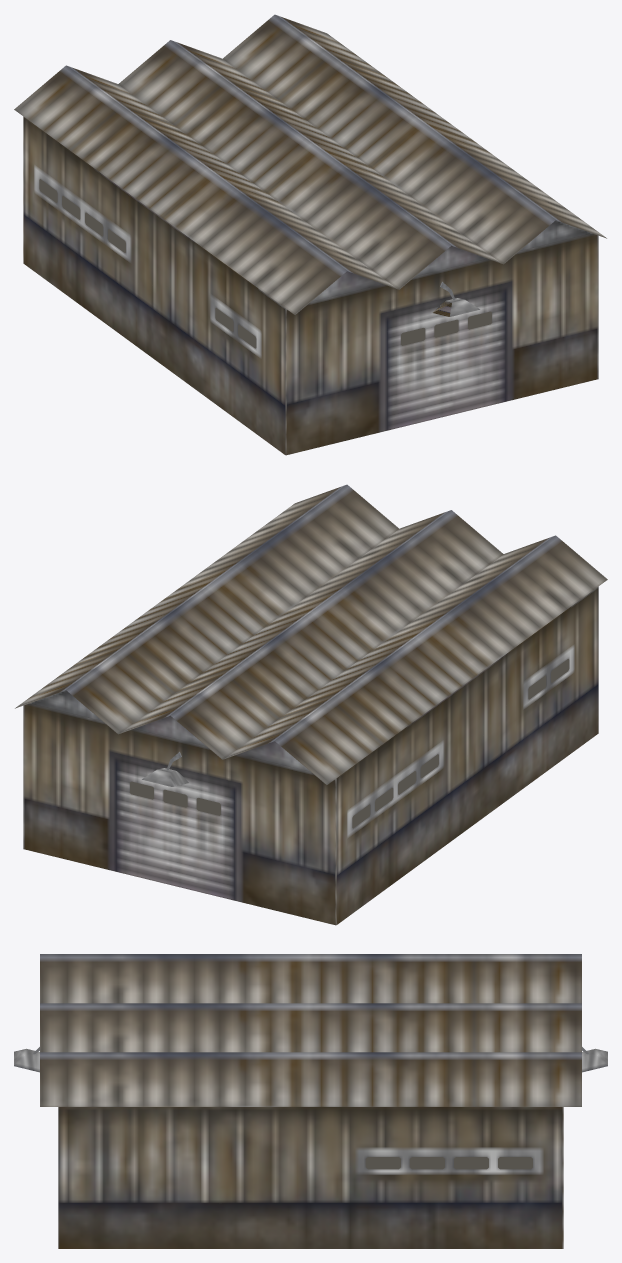
Rendered from civstoragea.glb.
3 renders of one model, top to bottom at view 1: azimuth 30°, elevation 25°; view 2: azimuth 150°, elevation 25°; view 3: azimuth 270°, elevation 25°, orthographic. The views are drawn at different scales.
Visible parts, largest first — view 1: Box02, LitWin_CivStorageA; view 2: Box02, LitWin_CivStorageA; view 3: Box02, LitWin_CivStorageA.
Boxes of the visible parts, left/top/right/bottom form: Box02: left=14, top=14, right=606, bottom=455; LitWin_CivStorageA: left=39, top=68, right=491, bottom=348; Box02: left=15, top=484, right=607, bottom=925; LitWin_CivStorageA: left=130, top=538, right=569, bottom=828; Box02: left=14, top=954, right=607, bottom=1248; LitWin_CivStorageA: left=365, top=1157, right=532, bottom=1169.
Bounding box in the file's own units: 7.71 × 4.2 × 13.15.
1 material, 1 textured.
